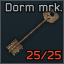Dorm room 314 marked key: (0, 0, 64, 64)
